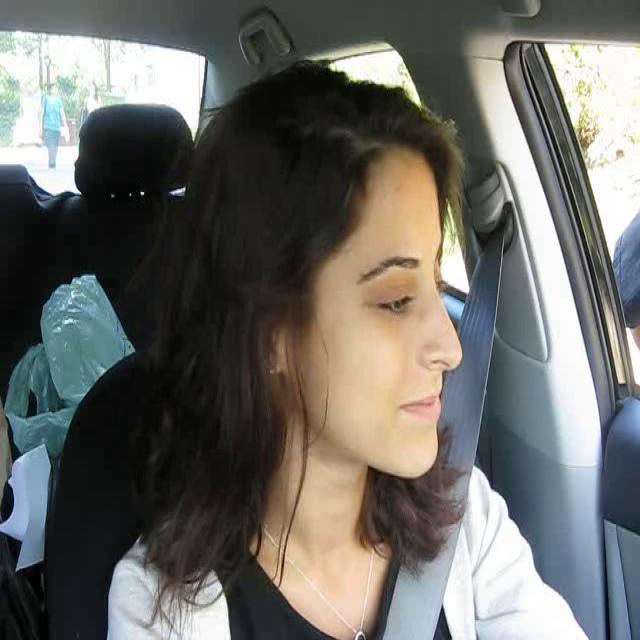close: (394, 381, 443, 428)
